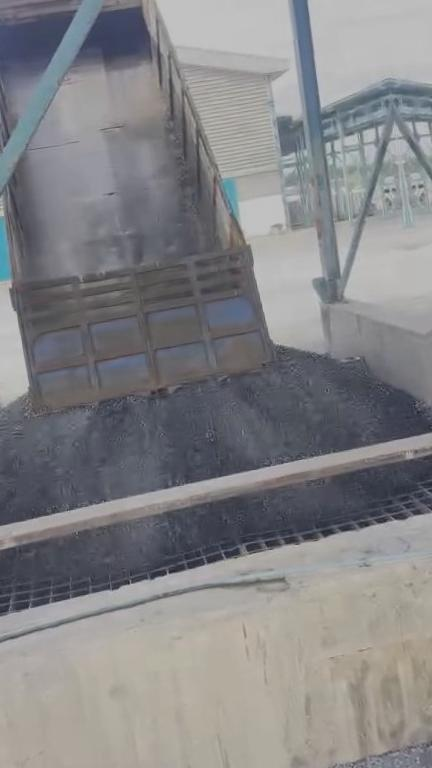gravel: (0, 348, 432, 531), (0, 457, 432, 580), (292, 730, 432, 768)
